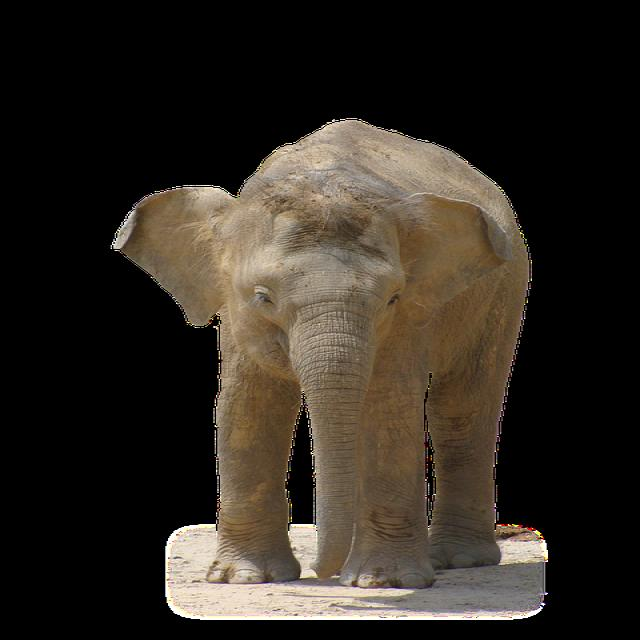elephant: (113, 120, 528, 588)
